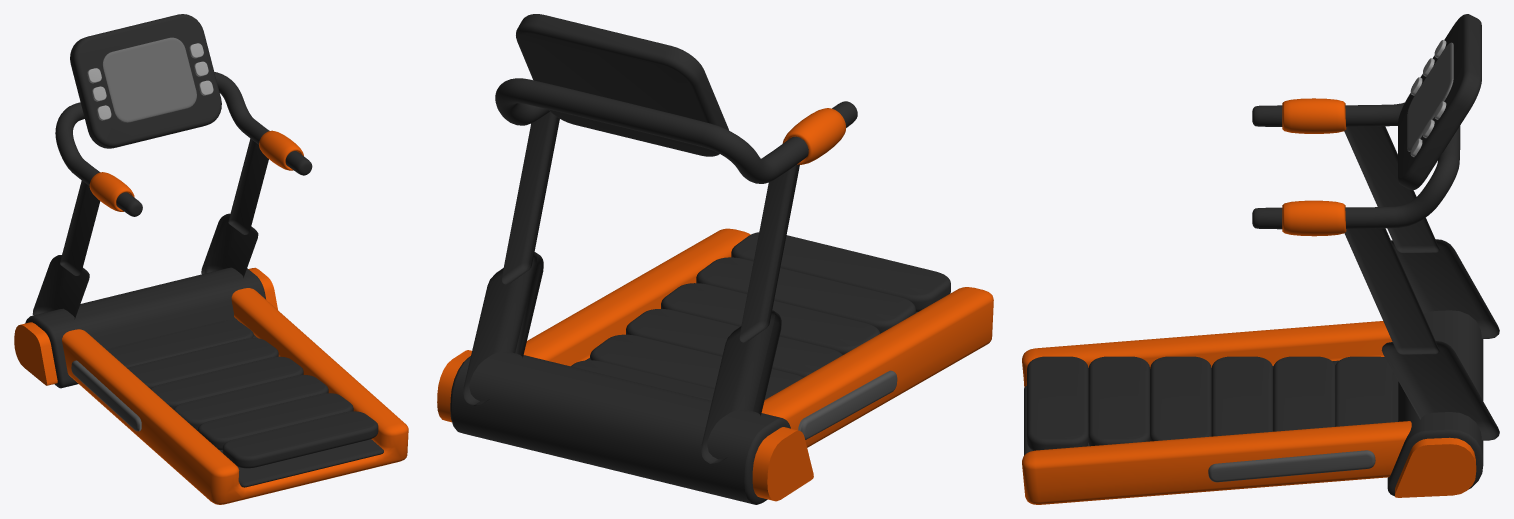
The model's file is treadmill-animated-3d-icon-497967932034.glb.
3 views of the same model, side by side, from view 1: azimuth 30°, elevation 25°; view 2: azimuth 150°, elevation 25°; view 3: azimuth 270°, elevation 25° (orthographic). The views are drawn at different scales.
Visible parts, largest first — view 1: Base, Cube, Monitor, Screen, Grid 6, Plane.009, Plane.002, Plane.007, Grid 5, Grid 4, Grid 3, Grid 2 (+6 smaller); view 2: Cube, Base, Monitor, Plane.009, Plane.007, Plane.002, Grid 6, Grid 5, Grid 4, Grid 3, Grid 2, Cube.002 (+3 smaller); view 3: Base, Plane.002, Plane.009, Plane.007, Cube, Monitor, Grid 6, Grid 5, Grid 4, Grid 3, Grid 2, Plane.011 (+6 smaller).
Boxes of the visible parts, <box> form: Base: <box>62,288,408,504</box>; Cube: <box>25,267,265,388</box>; Monitor: <box>70,14,221,148</box>; Screen: <box>102,37,196,122</box>; Grid 6: <box>222,411,378,468</box>; Plane.009: <box>32,213,258,319</box>; Plane.002: <box>60,138,268,275</box>; Plane.007: <box>55,72,312,216</box>; Grid 5: <box>197,393,353,449</box>; Grid 4: <box>173,375,328,430</box>; Grid 3: <box>151,356,303,409</box>; Grid 2: <box>127,338,278,388</box>; Cube: <box>450,351,790,504</box>; Base: <box>523,228,993,447</box>; Monitor: <box>516,14,728,156</box>; Plane.009: <box>463,252,781,463</box>; Plane.007: <box>495,78,857,183</box>; Plane.002: <box>501,112,799,342</box>; Grid 6: <box>731,232,950,311</box>; Grid 5: <box>696,257,915,333</box>; Grid 4: <box>661,283,880,354</box>; Grid 3: <box>626,309,842,377</box>; Grid 2: <box>590,334,803,399</box>; Cube.002: <box>437,350,813,501</box>; Base: <box>1022,321,1411,504</box>; Plane.002: <box>1344,126,1439,354</box>; Plane.009: <box>1381,239,1499,440</box>; Plane.007: <box>1252,102,1460,229</box>; Cube: <box>1387,310,1483,496</box>; Monitor: <box>1398,14,1481,190</box>; Grid 6: <box>1027,356,1088,450</box>; Grid 5: <box>1088,356,1149,446</box>; Grid 4: <box>1150,356,1211,441</box>; Grid 3: <box>1211,356,1273,436</box>; Grid 2: <box>1273,356,1335,431</box>; Plane.011: <box>1282,98,1346,236</box>.
Bounding box in the file's own units: 1.74 × 2.34 × 2.49.
